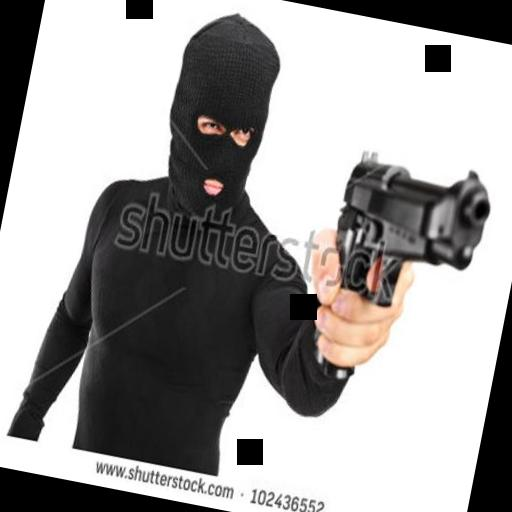Handgun: (306, 139, 496, 397)
